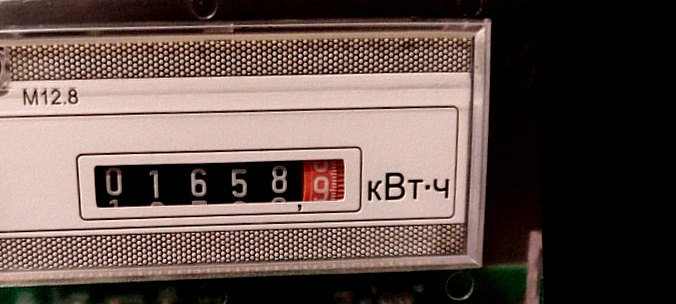0: (102, 165, 123, 196)
1: (145, 167, 164, 199)
5: (227, 166, 250, 198)
6: (187, 164, 208, 198)
8: (268, 161, 289, 194)
9: (309, 174, 331, 203)
screen: (66, 135, 368, 228)
